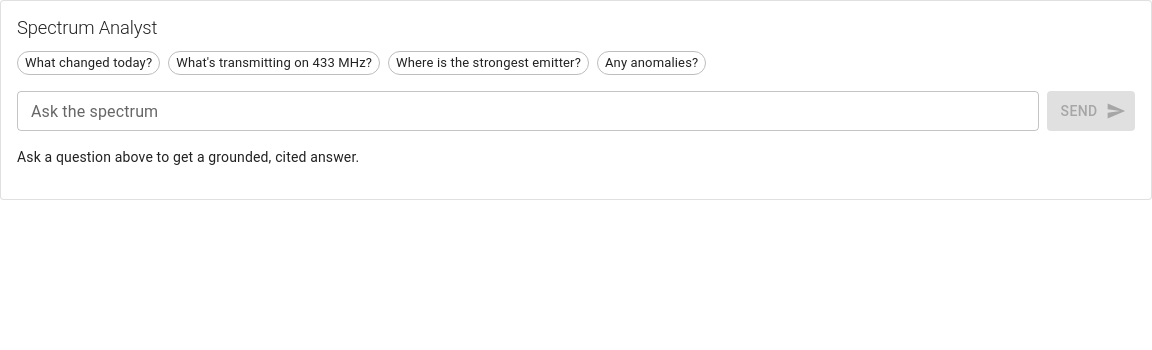
Test: Analyst › shows 'No records cited.' when citations is empty
The width and height of the screenshot is (1152, 350).
Type "huh?" into the field with placeholder "Ask about signals, devices, emitters, or alerts…" at (528, 111), box [17, 91, 1039, 131]
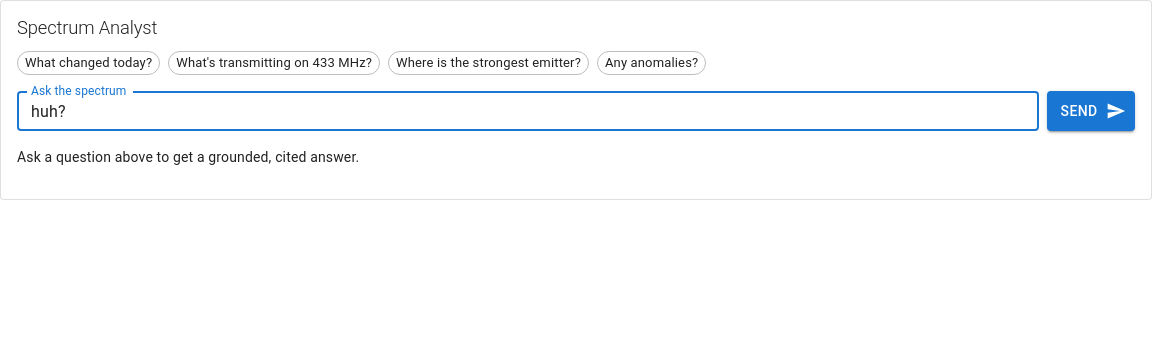
Click the button "Send" at (1091, 111), box [1047, 91, 1135, 131]
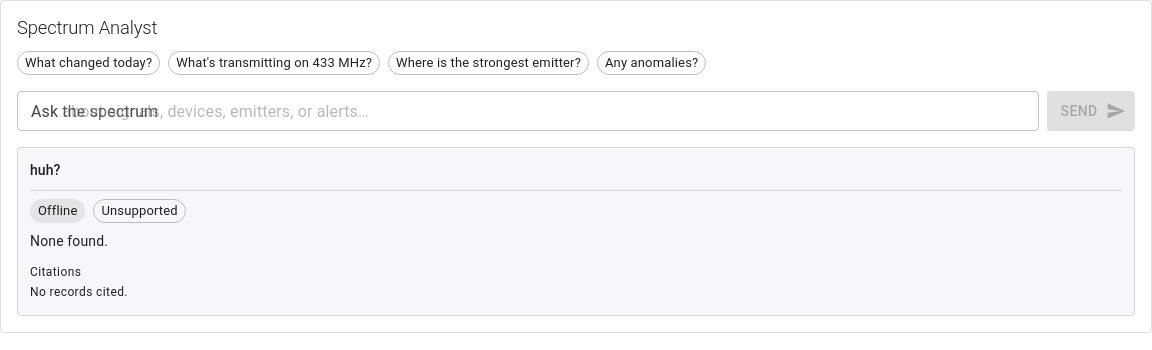
Check: the text "None found." is shown, box [30, 233, 108, 249]
Check: the text "No records cited." is shown, box [30, 285, 128, 299]
